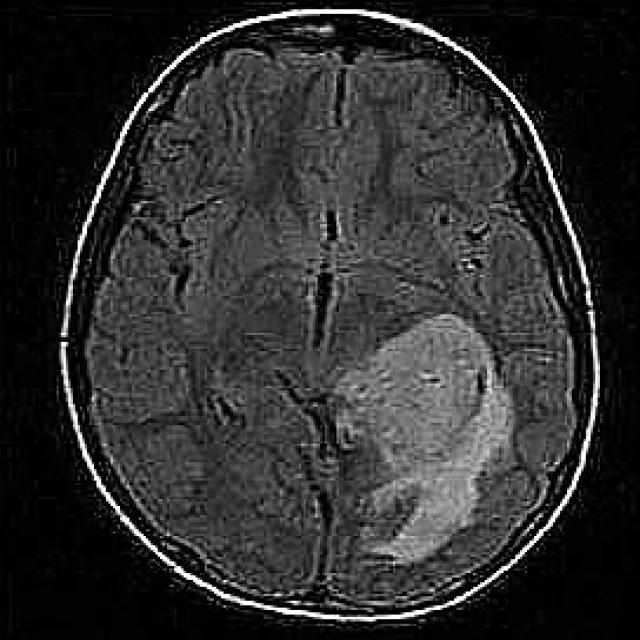Tumor-Cell: (334, 299, 506, 561)
